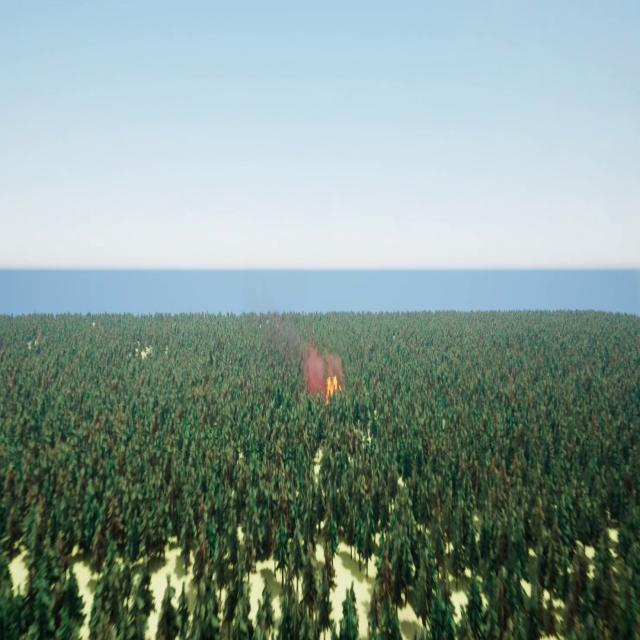fire: (326, 375, 341, 399)
smoke: (303, 337, 345, 397)
